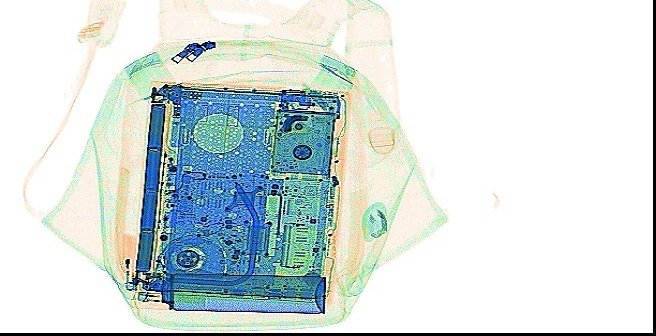lighter: (134, 287, 206, 305), (119, 232, 137, 291)
pressure: (156, 271, 327, 314)
